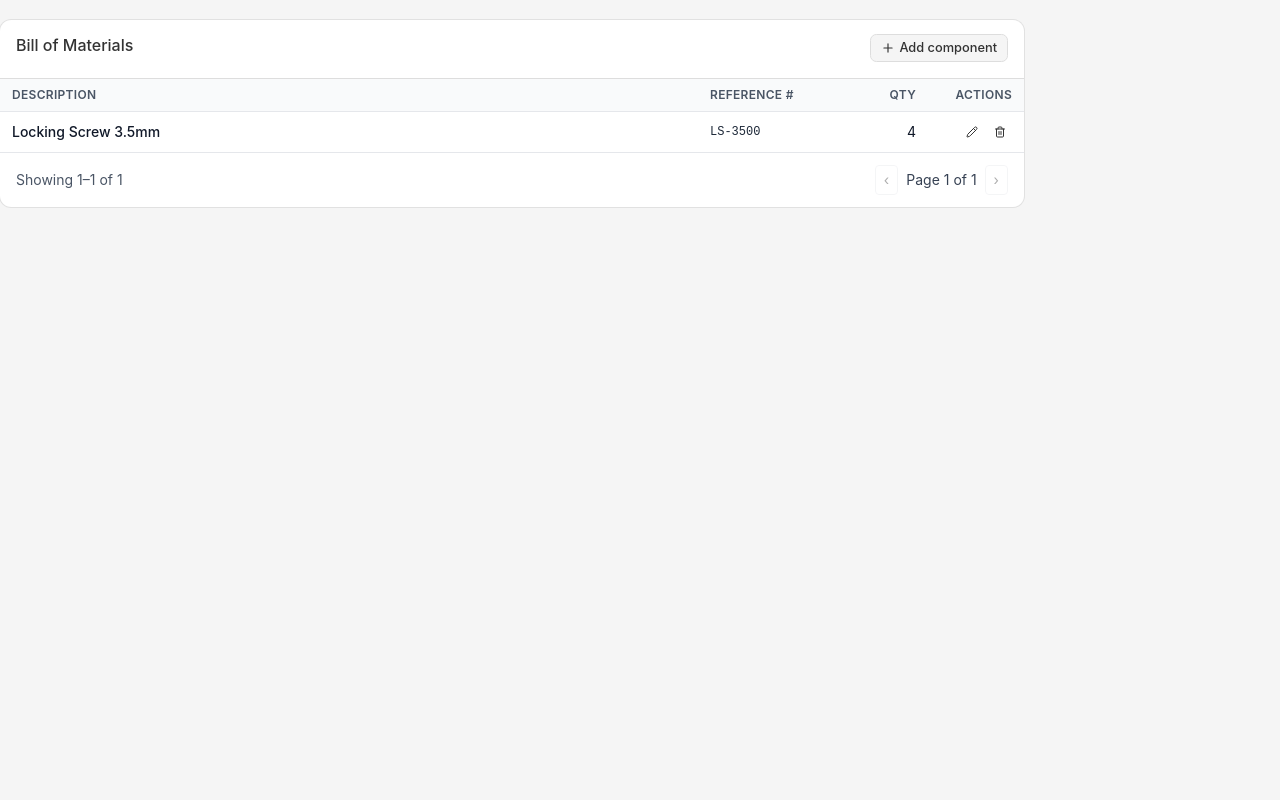
Scenario: KitComponentsCard › keeps the dialog open and shows the field error the server sent
Expected: the link "Locking Screw 3.5mm" is shown, [12,123,160,140]
Click the button named "Edit quantity for Locking Screw 3.5mm": (972, 132) [960,120,984,144]
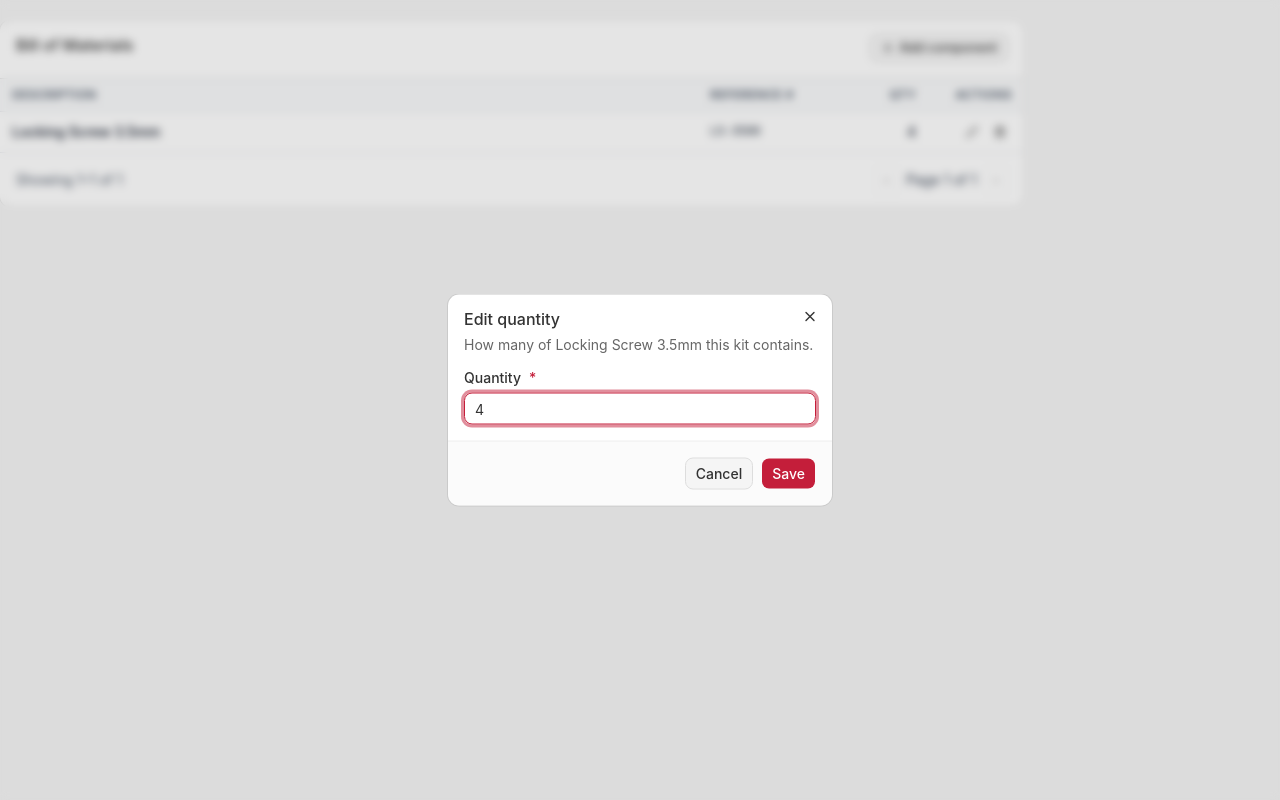
Replace the text in the field labelled "Quantity *" with "2": (640, 408) [464,392,816,424]
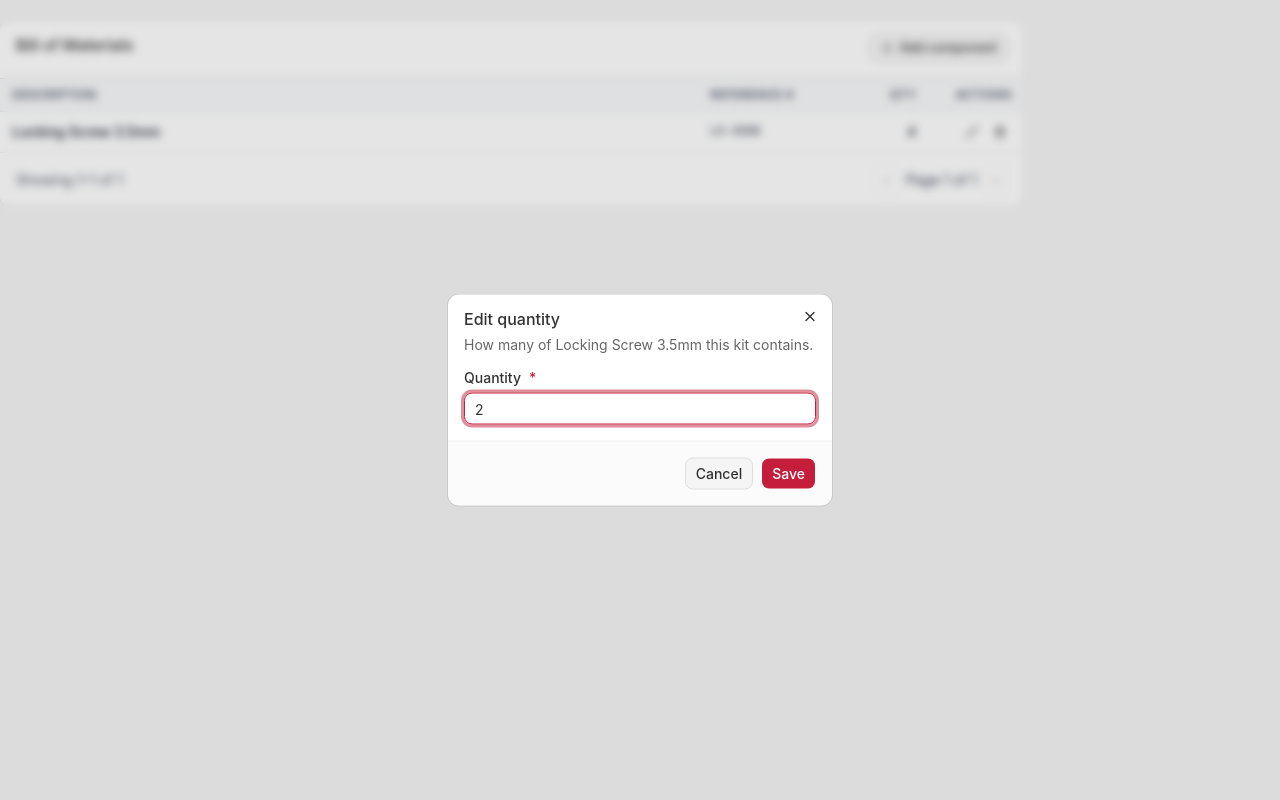
Click the button "Save": (789, 474) [761,458,816,490]
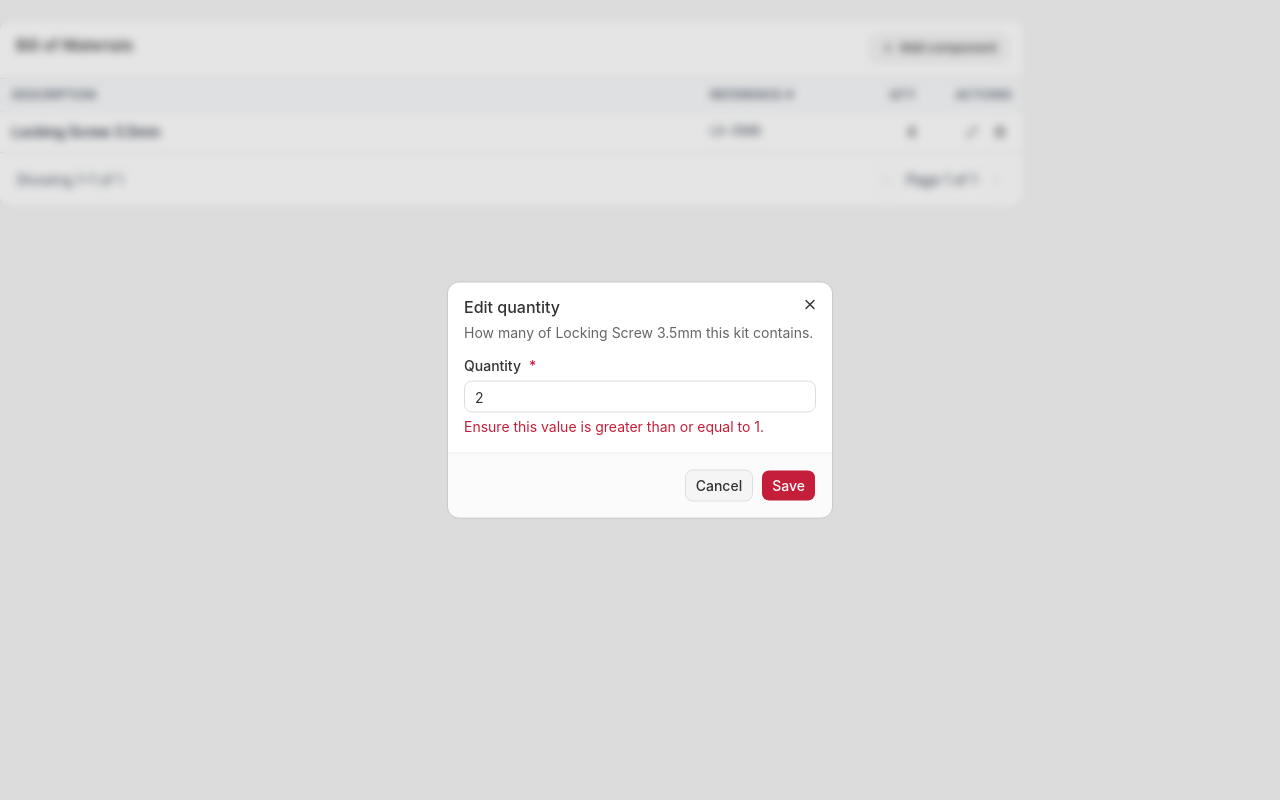
Expected: the dialog is shown, [448,282,832,518]
Expected: the text "Ensure this value is greater than or equal to 1." is shown, [464,416,816,436]
